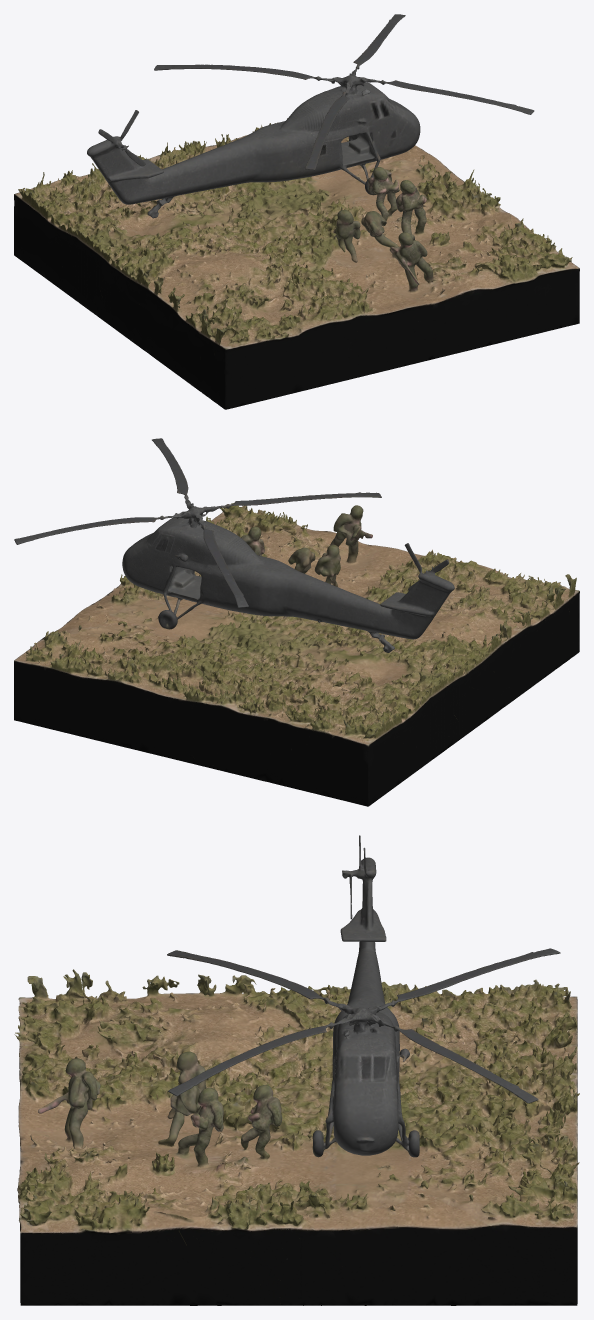
The model's file is my_dung_truc_thang_van.glb.
3 renders of one model, top to bottom at view 1: azimuth 30°, elevation 25°; view 2: azimuth 150°, elevation 25°; view 3: azimuth 270°, elevation 25°, orthographic. The views are drawn at different scales.
Bounding box in the file's own units: 1.7 × 0.8347 × 1.67.
Materials: 1 (1 with a texture image).
